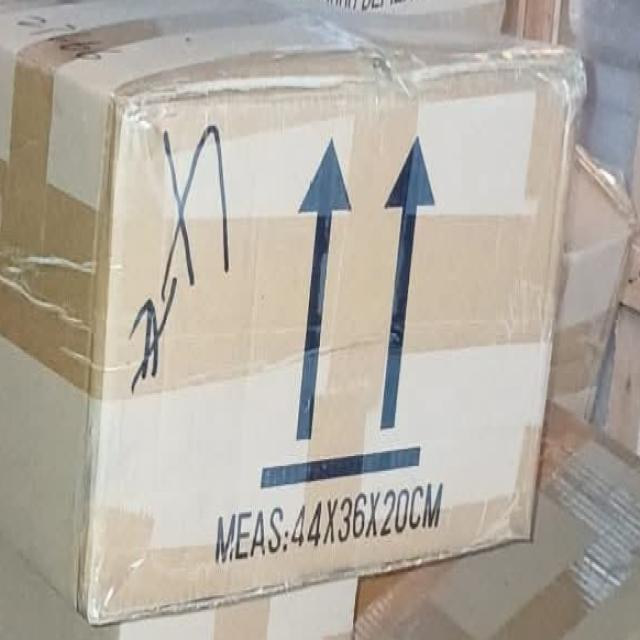carton_box: (1, 0, 603, 640)
package_damage: (528, 30, 607, 134)
this_side_up_label: (260, 138, 462, 500)
